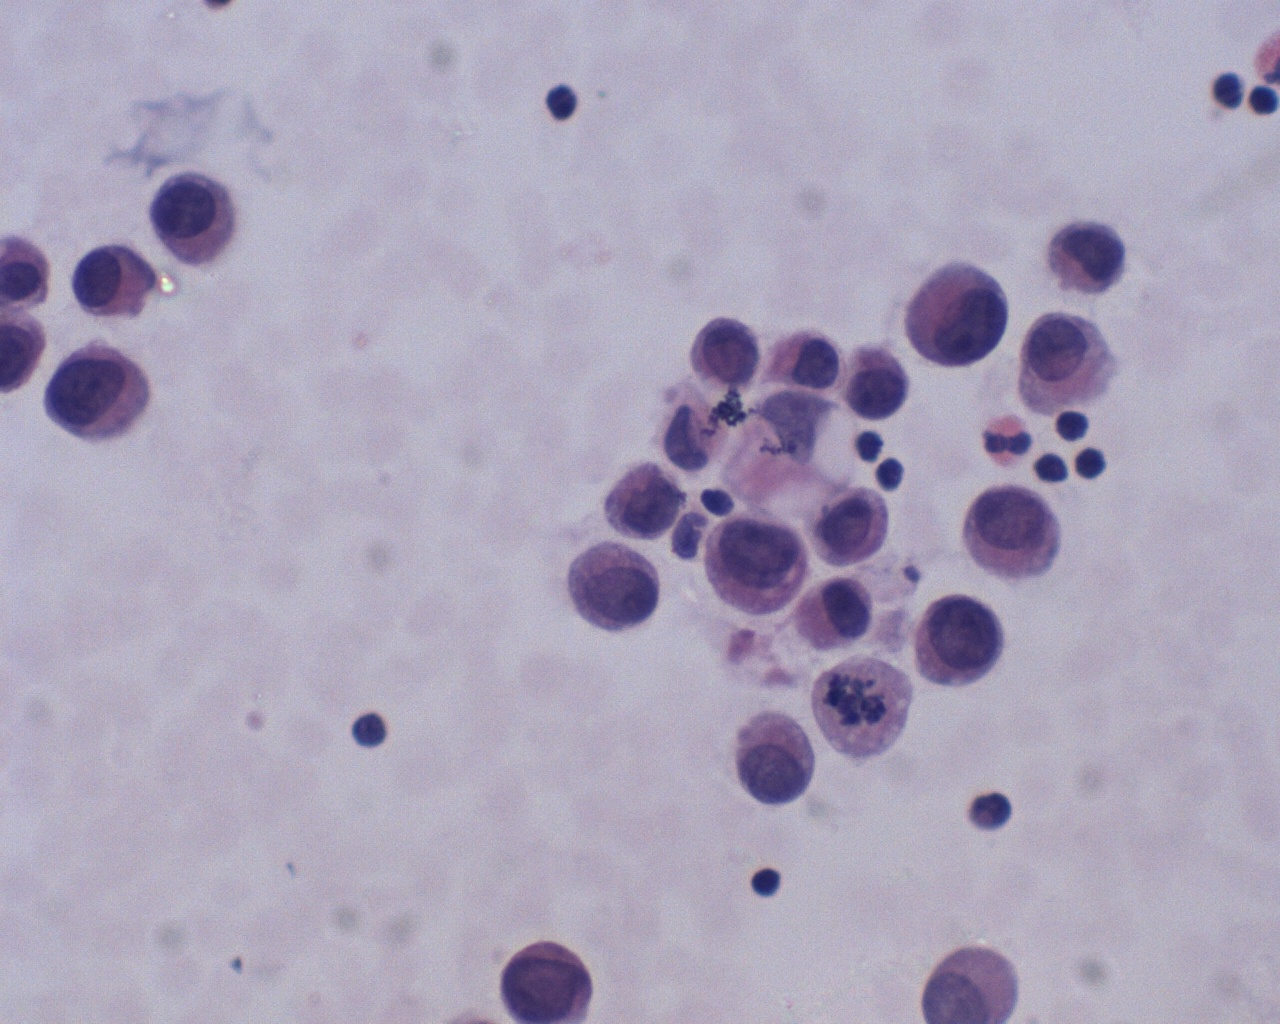ab: (903, 583, 1025, 701), (39, 333, 162, 450), (902, 252, 1017, 372), (807, 650, 924, 765), (725, 692, 827, 820), (701, 509, 816, 622), (134, 158, 245, 273), (1013, 308, 1131, 412), (553, 539, 670, 636), (959, 484, 1066, 586), (489, 929, 602, 1024), (798, 475, 901, 571), (65, 236, 167, 329), (1047, 208, 1136, 301), (597, 452, 690, 541), (837, 339, 918, 428), (682, 315, 769, 395), (764, 326, 846, 393)
lymph: (347, 698, 399, 755), (748, 858, 788, 905), (870, 453, 910, 498)
